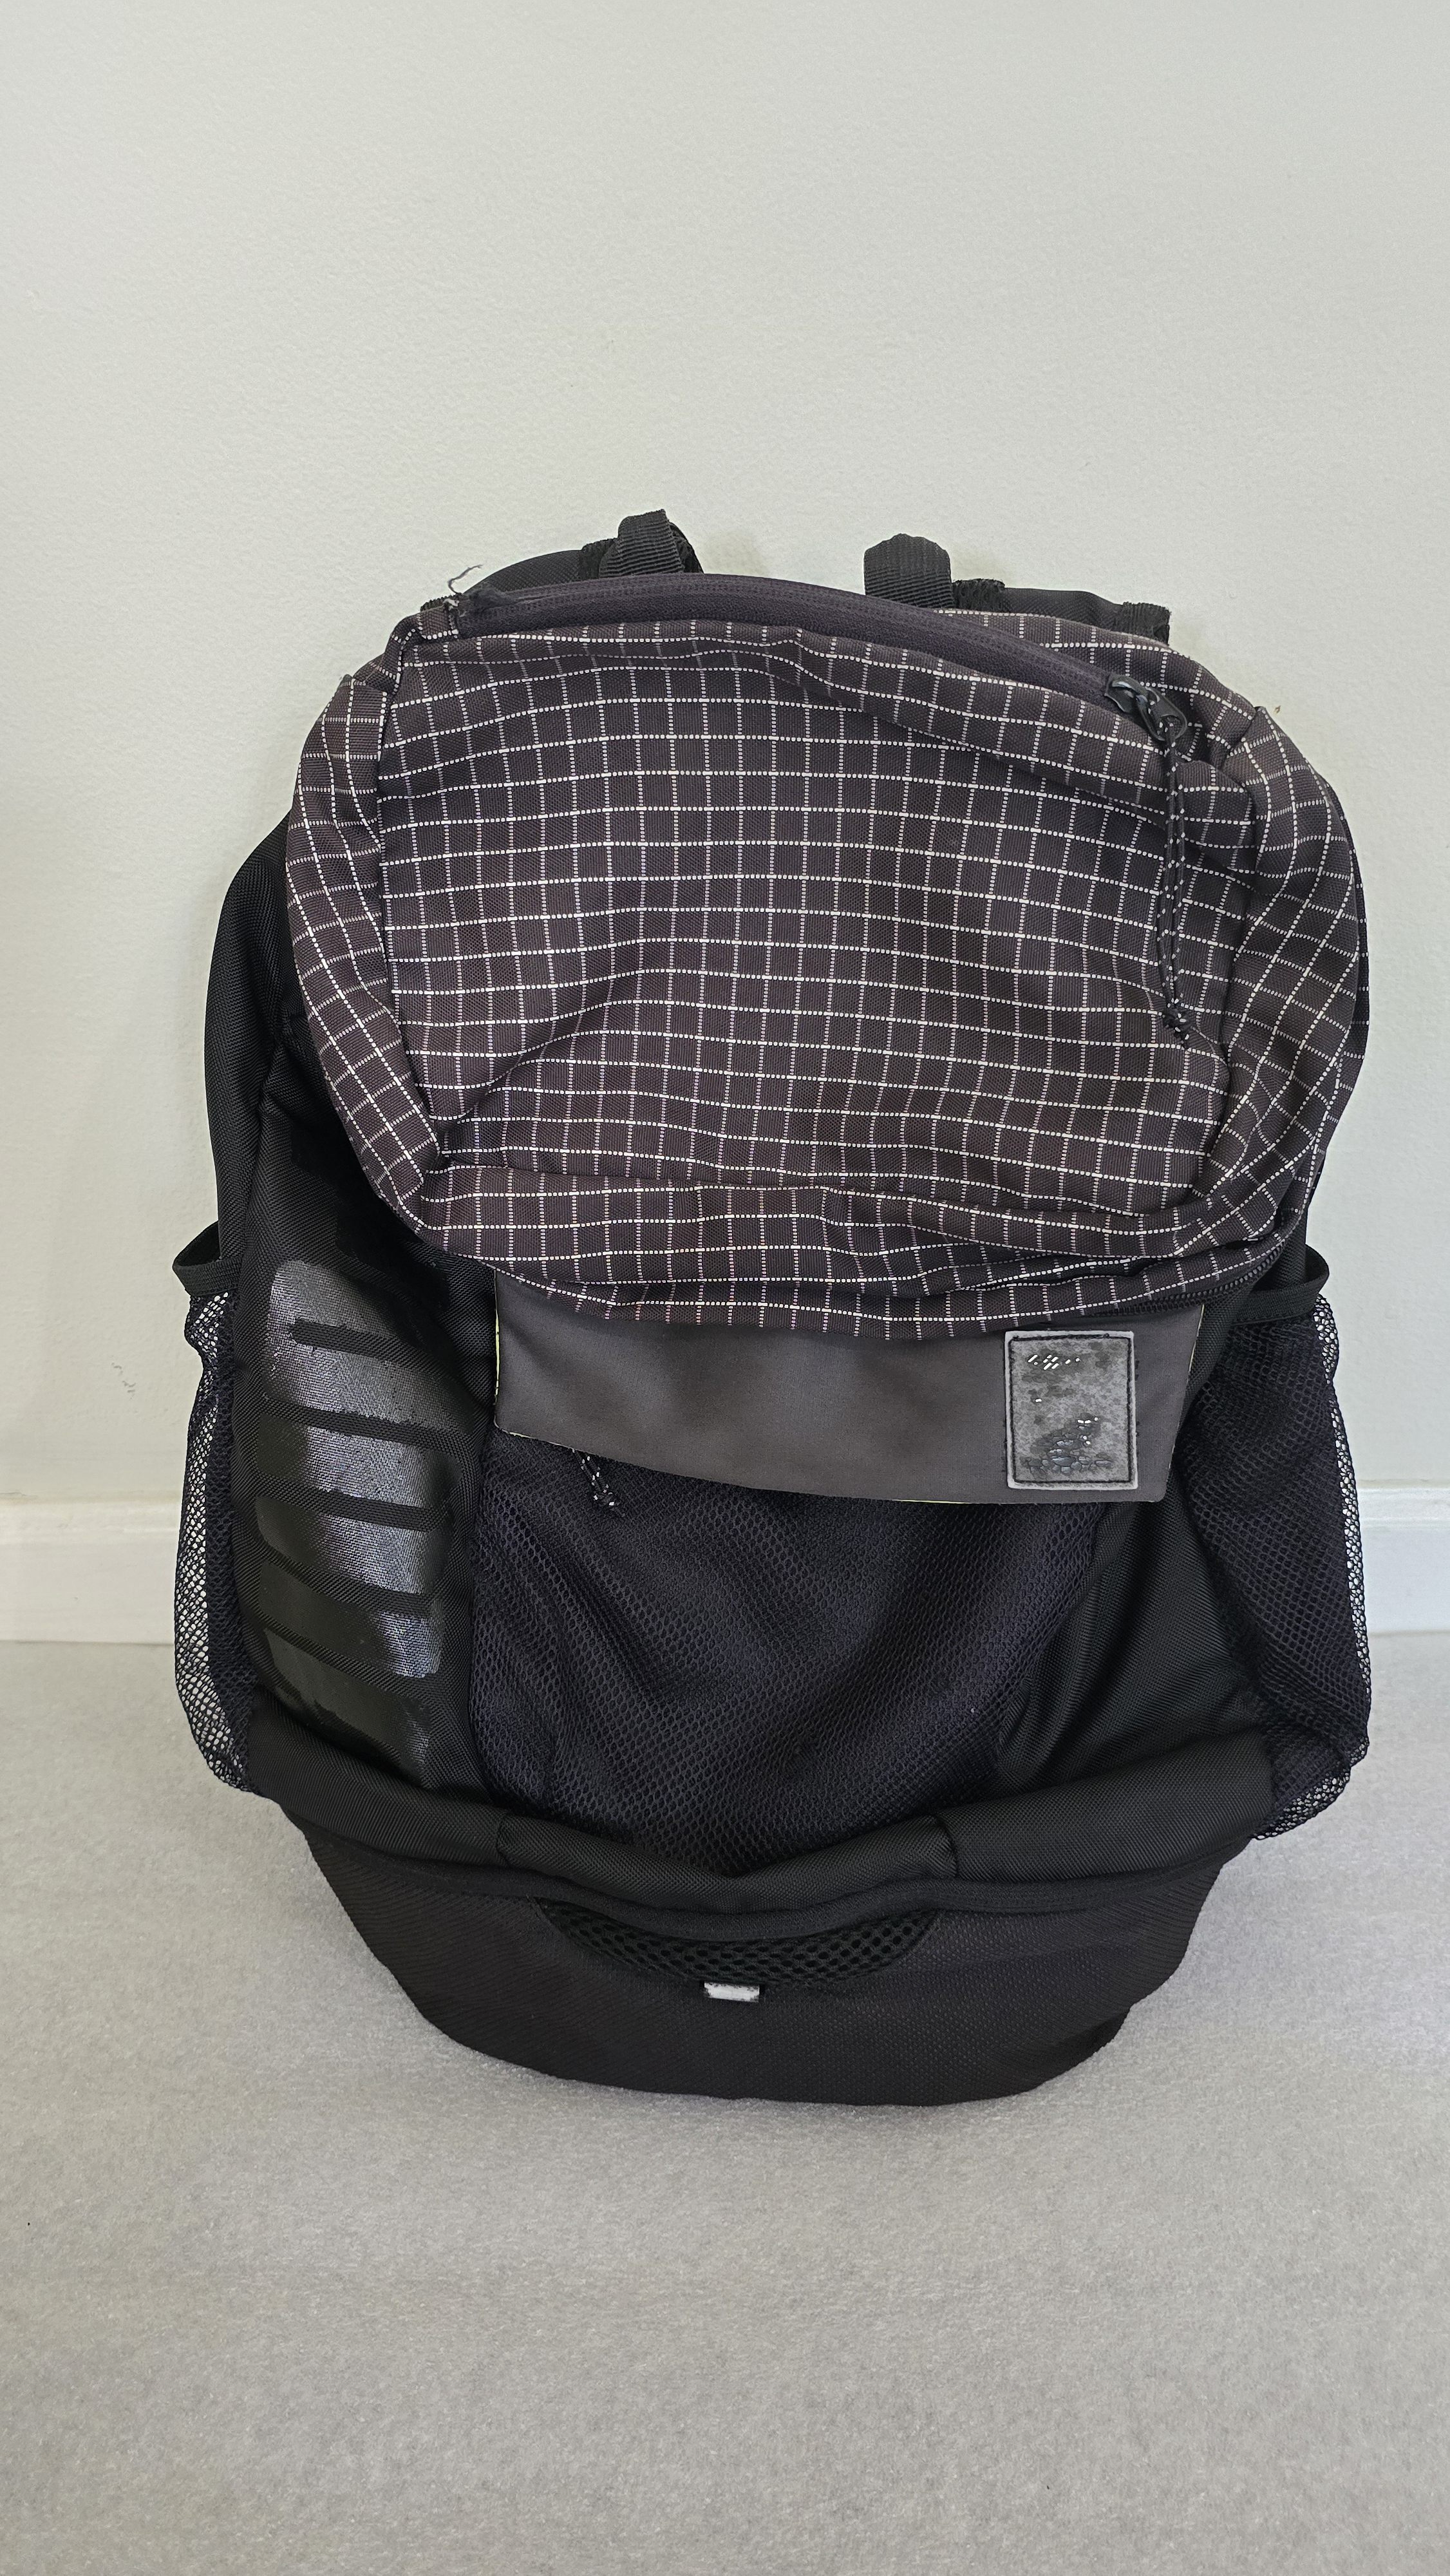bag: (187, 528, 1436, 2117)
